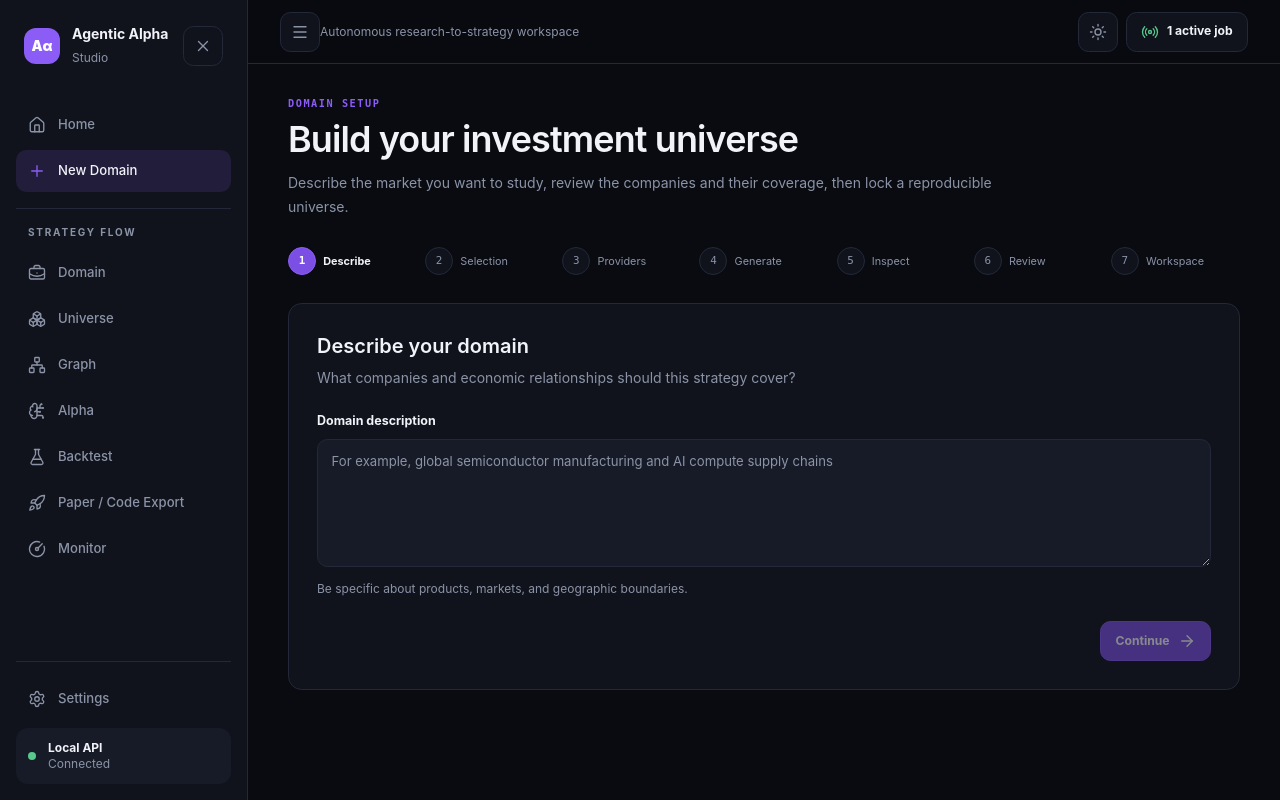
Test case: labels provider checks as configuration-only and never presents a credential entry field
The image size is (1280, 800).
Expected: the heading "Build your investment universe" is shown, [288,117,798,161]
Type "Semiconductors" into the text box labelled "Domain description" at (764, 503), box [317,439,1211,567]
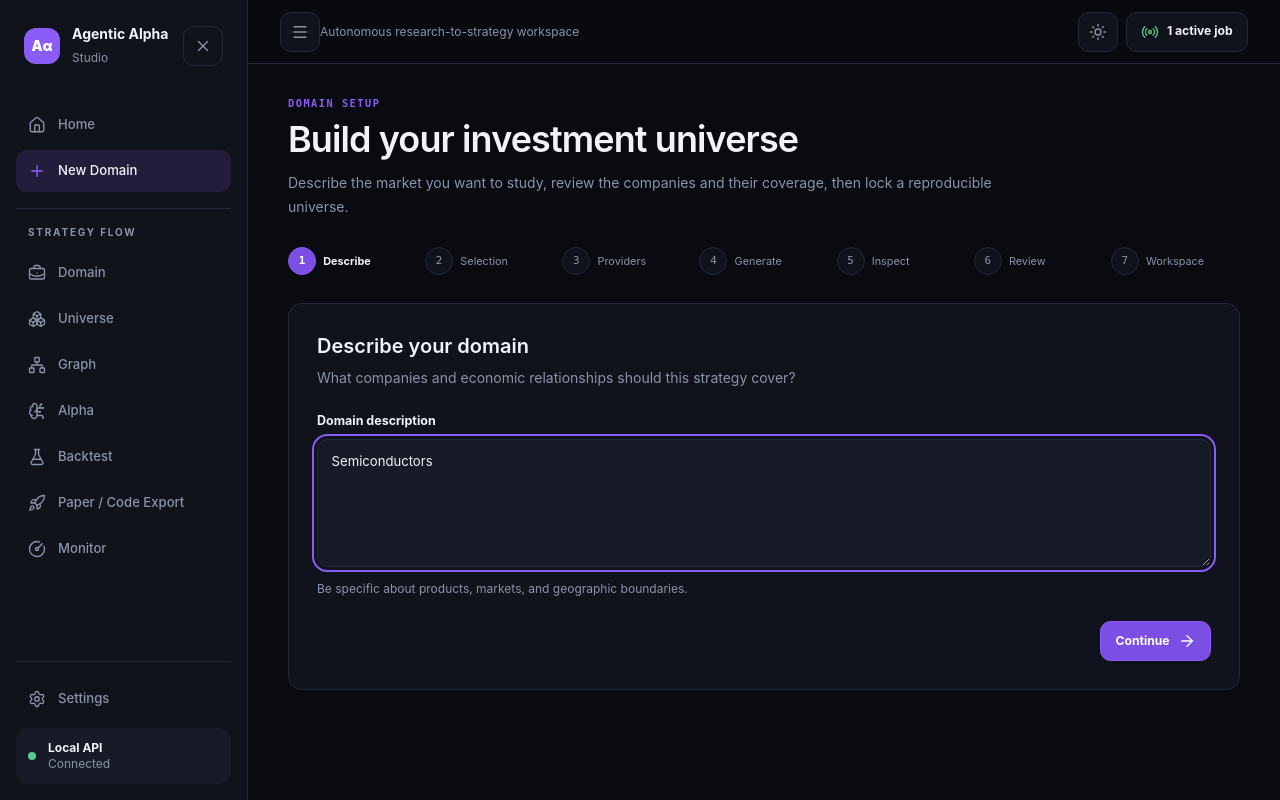
Click the button "Continue" at (1156, 641), box [1100,621,1211,661]
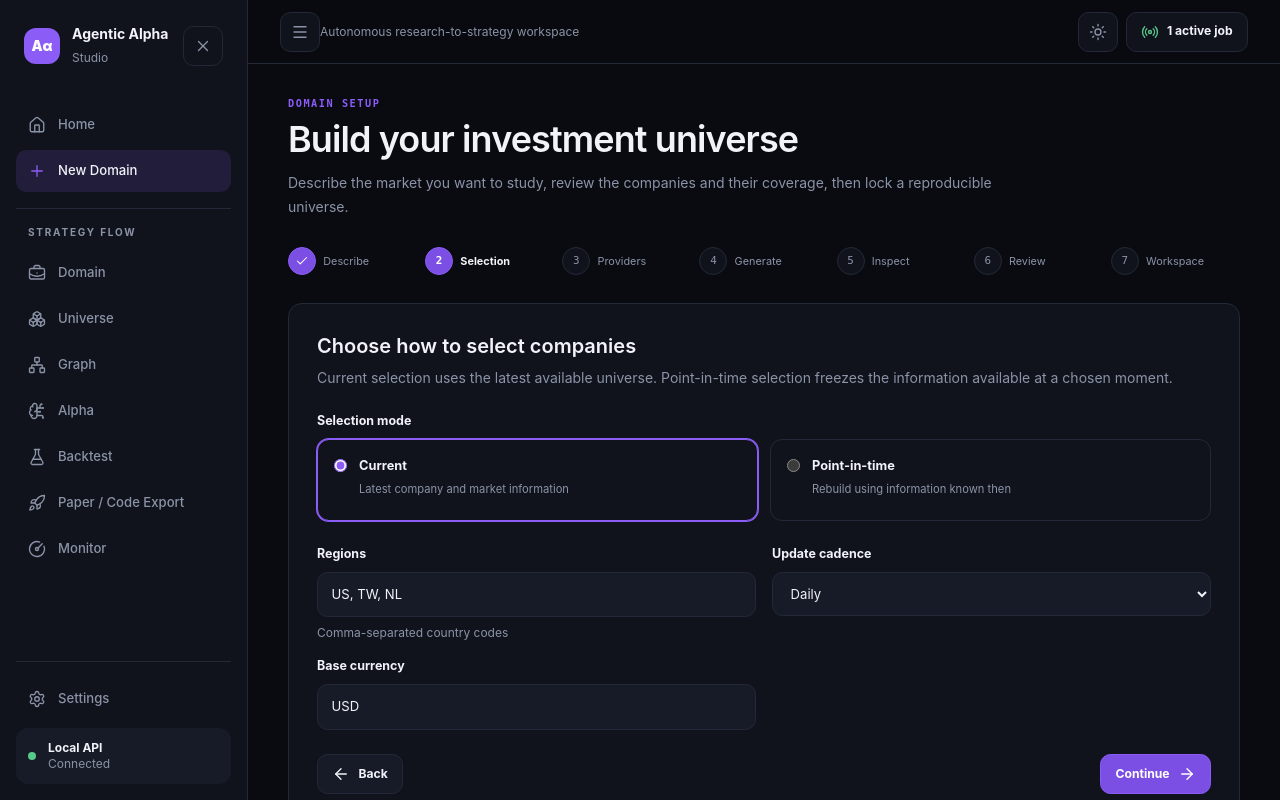
Click the button "Continue" at (1156, 774), box [1100,754,1211,794]
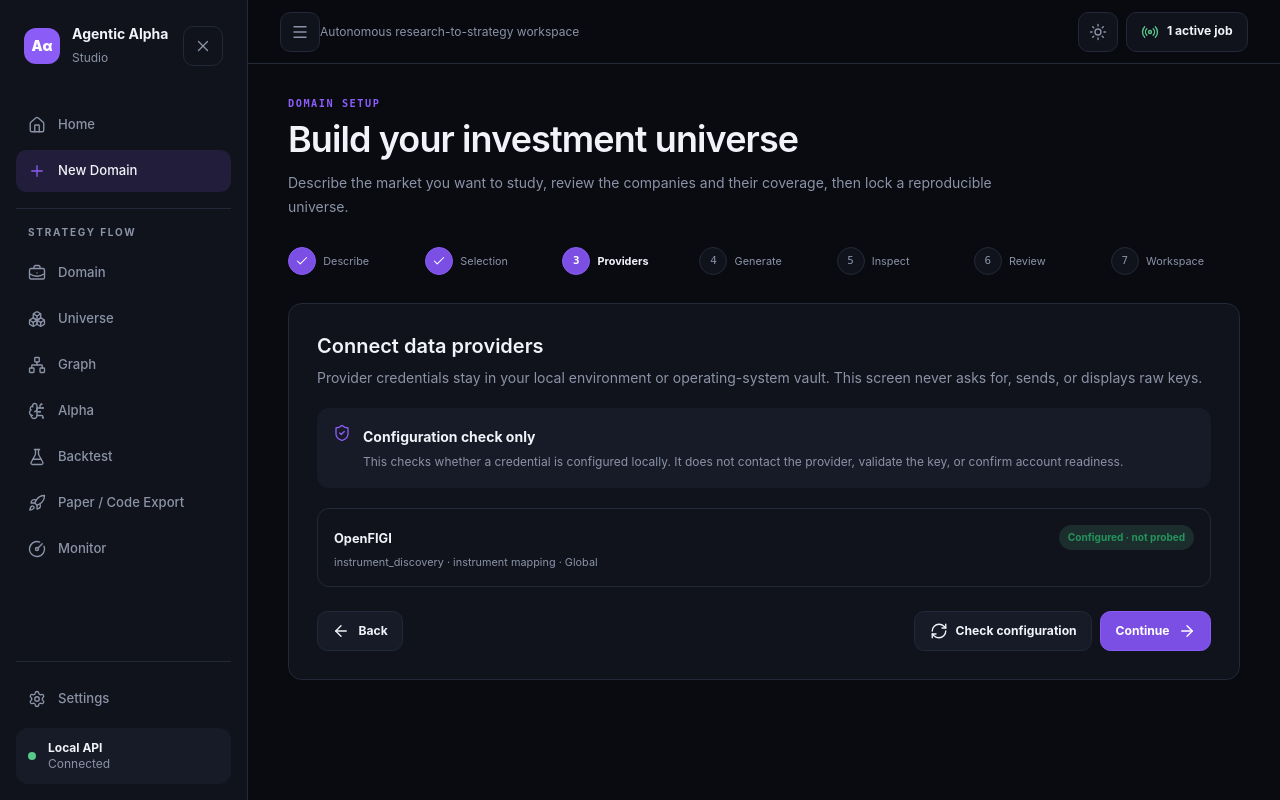
Expected: the text "OpenFIGI" is shown, [334,531,392,546]
Click the button "Check configuration" at (1003, 632), box [914,612,1092,652]
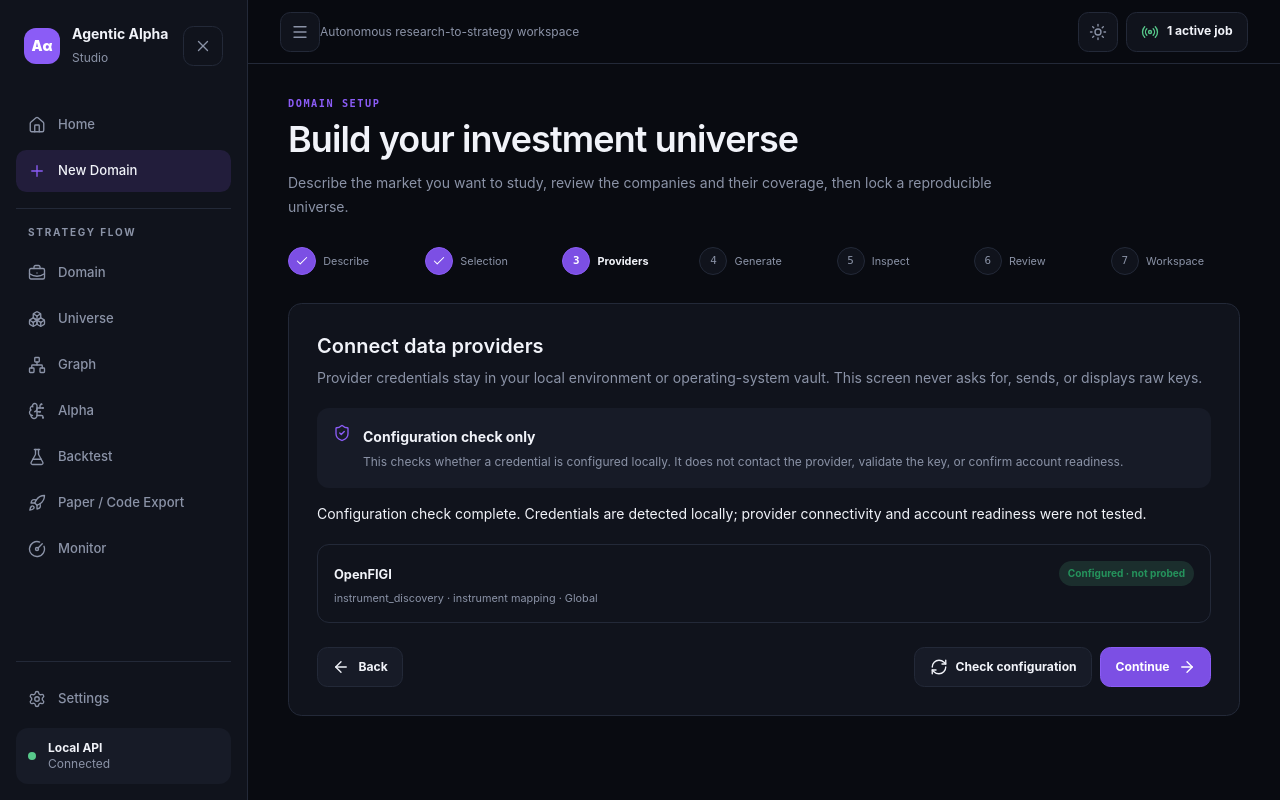
Expected: the message shows "connectivity and account readiness were not tested", [317,505,1147,522]
